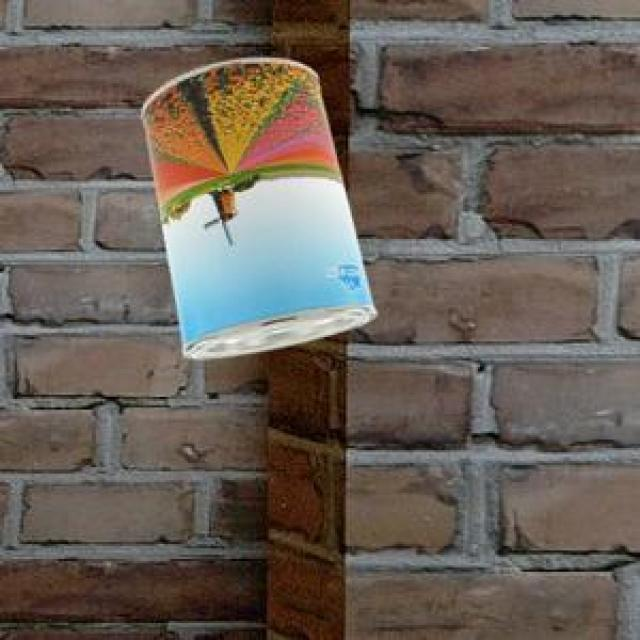logam: (140, 54, 372, 355)
